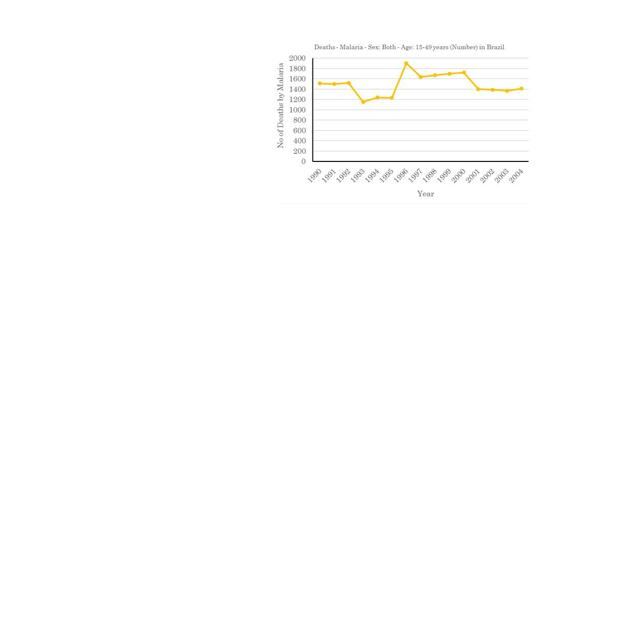Graph: (274, 39, 533, 204)
